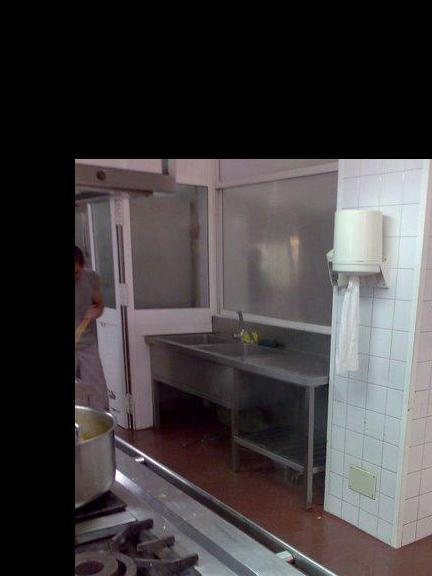Lavaplatos: (151, 306, 282, 384)
